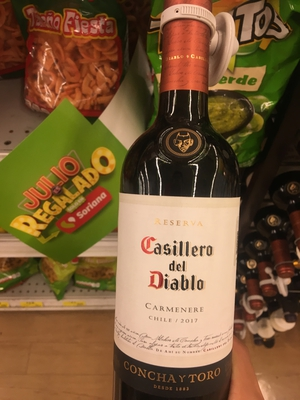casillero del diablo carmenere: (103, 6, 257, 390)
